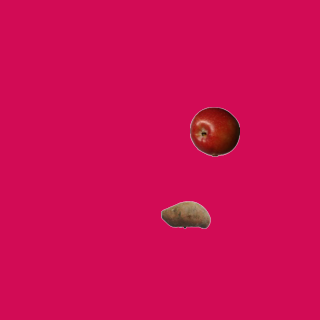Apple Braeburn: (189, 106, 239, 156)
Potato Sweet: (160, 189, 210, 239)
